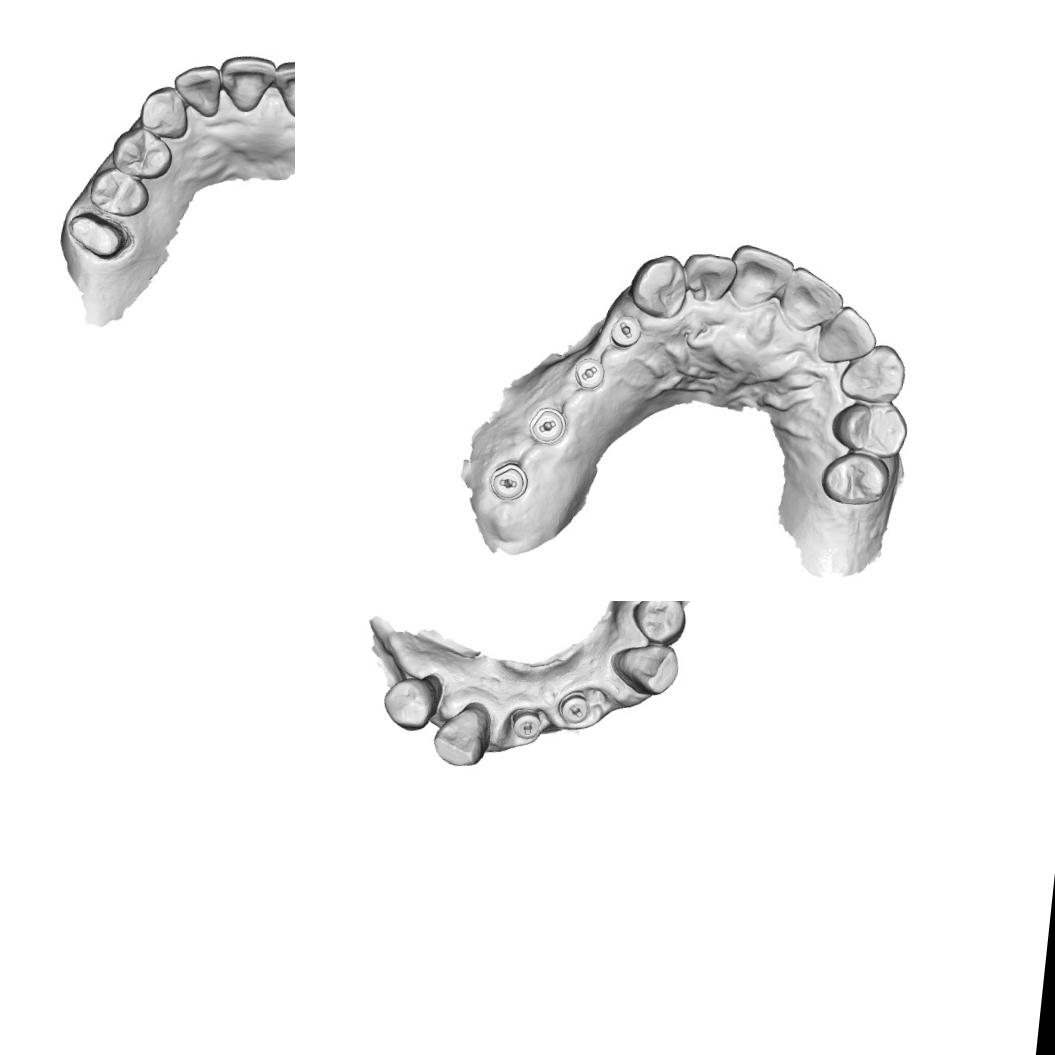canine: (836, 338, 908, 408), (626, 250, 692, 321), (430, 700, 492, 771), (610, 641, 684, 698), (137, 83, 194, 143)
crown: (61, 204, 136, 266)
implant_minus: (487, 459, 532, 505), (526, 404, 570, 449), (570, 353, 608, 395), (607, 312, 644, 351), (508, 707, 542, 743), (555, 690, 590, 724)
incisor: (725, 241, 797, 314), (778, 264, 847, 338), (815, 301, 880, 368), (216, 50, 278, 118), (170, 60, 225, 121), (681, 250, 740, 306), (268, 56, 295, 123)
premolar: (828, 395, 911, 460), (818, 449, 892, 510), (108, 123, 176, 183), (86, 164, 154, 220), (380, 673, 439, 734), (629, 601, 692, 646)
